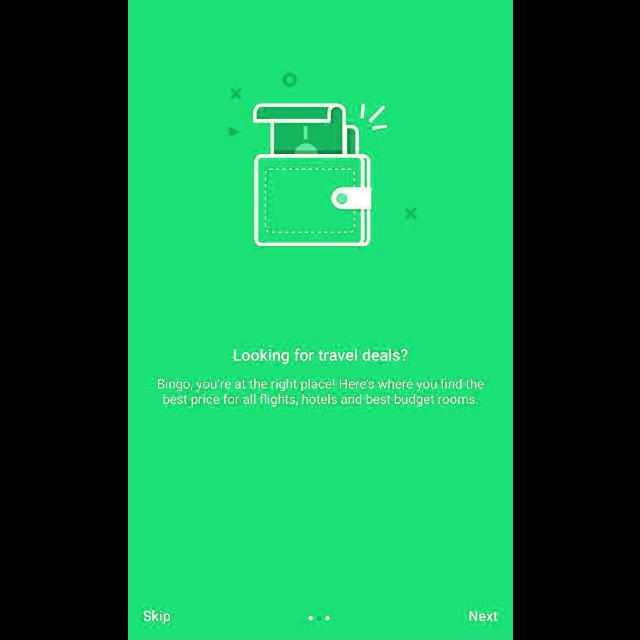image: (228, 72, 417, 248)
pageindicator: (307, 616, 331, 622)
text: (156, 378, 484, 408), (232, 348, 408, 366), (144, 610, 170, 624), (468, 610, 498, 622)
